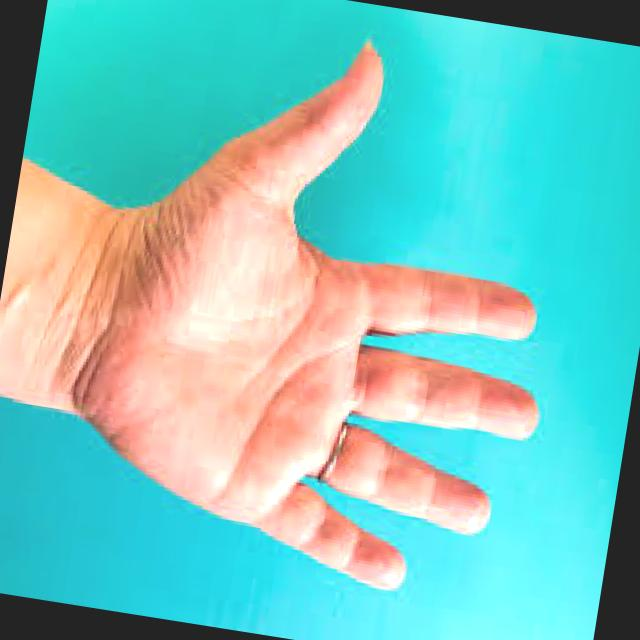Hand: (44, 0, 607, 612)
